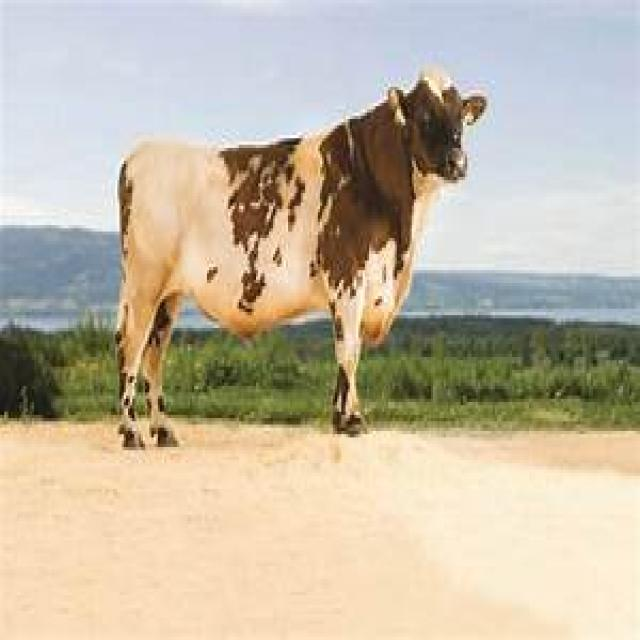cow: (119, 73, 486, 436)
